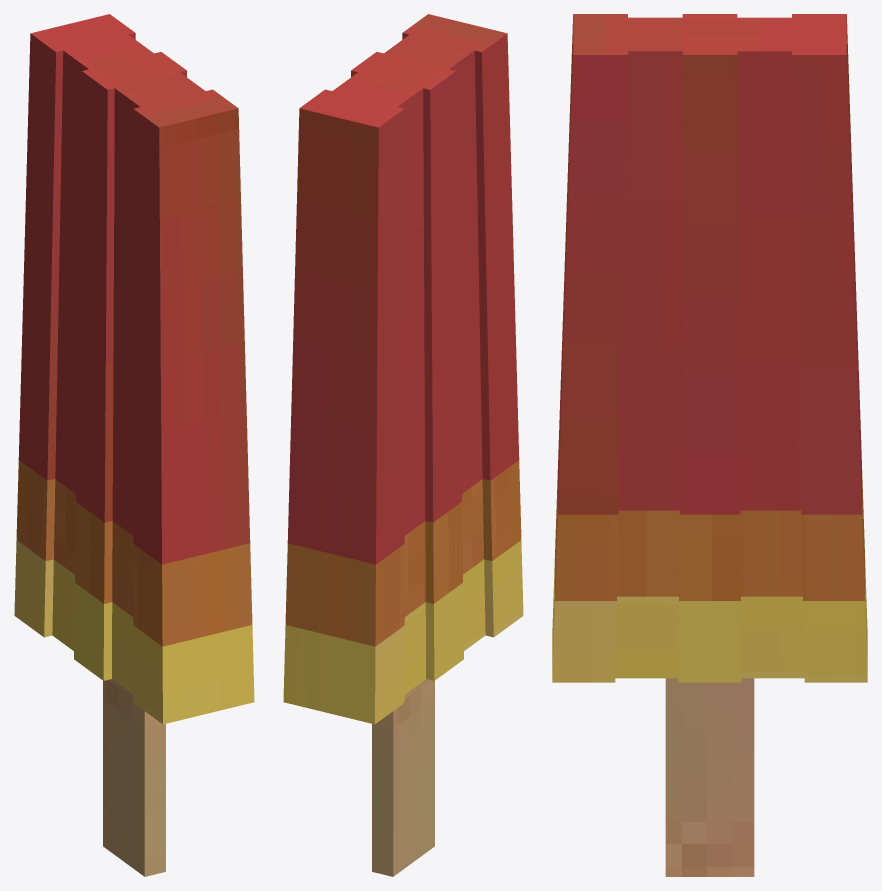
The picture shows the model from 3 angles, left to right: view 1: azimuth 30°, elevation 25°; view 2: azimuth 150°, elevation 25°; view 3: azimuth 270°, elevation 25°; orthographic projection. The views are drawn at different scales.
Parts seen in each view (by area): view 1: Cube.005_Cube.004; view 2: Cube.005_Cube.004; view 3: Cube.005_Cube.004.
Part boxes in pixels (bbox=[...]): Cube.005_Cube.004: bbox=[14, 14, 254, 876]; Cube.005_Cube.004: bbox=[283, 14, 523, 876]; Cube.005_Cube.004: bbox=[552, 14, 867, 876].
Bounding box in the file's own units: 0.1215 × 1 × 0.3416.
Materials: 1 (1 with a texture image).
